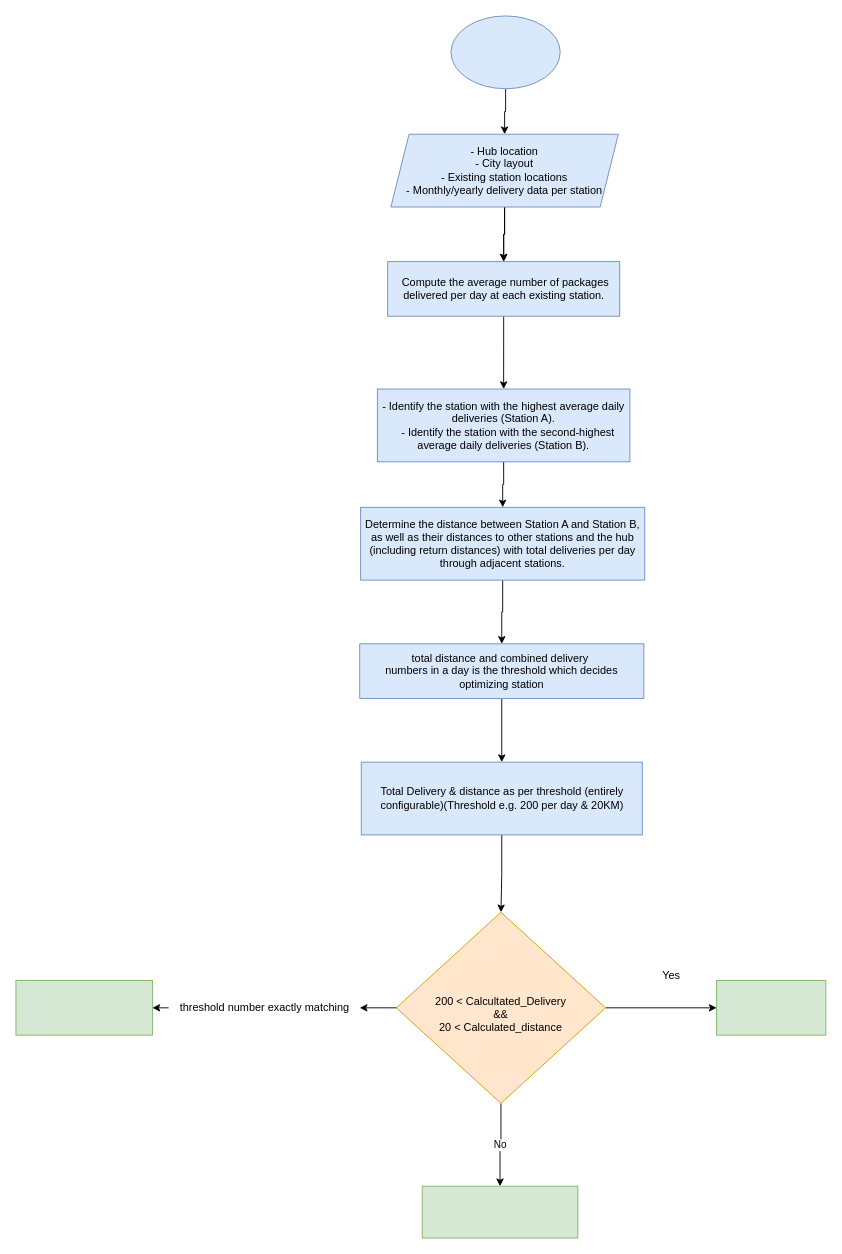
Image size: 842x1254. Some labels were removed from this diagram. The shapes that lost their labels are listed below. From the top down, each one's centre as x and y in pixels, then its label:
At (505,52): "Start".
At (83,1007): "No new station required, already optimized.".
At (771,1007): "Consider merging Station A and Station B".
At (499,1211): "Consider placing a new station between Station A and Station B".
